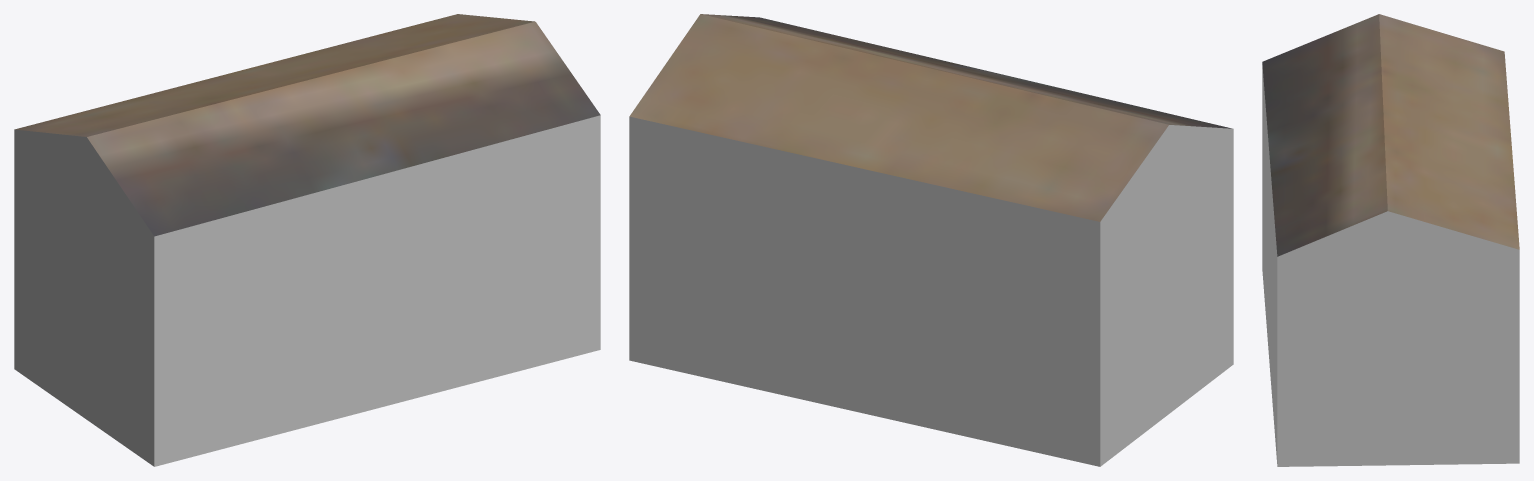
Rendered from DEBW_0010007Tx7O.gltf.
3 renders of one model, left to right at view 1: azimuth 30°, elevation 25°; view 2: azimuth 150°, elevation 25°; view 3: azimuth 270°, elevation 25°, orthographic. The views are drawn at different scales.
Parts seen in each view (by area): view 1: Z_UP; view 2: Z_UP; view 3: Z_UP.
Boxes of the visible parts, left/top/right/bottom form: Z_UP: left=14, top=14, right=600, bottom=466; Z_UP: left=629, top=14, right=1233, bottom=466; Z_UP: left=1262, top=14, right=1519, bottom=466.
Size of the model in its own units: 6.59 by 3.89 by 3.57.
2 materials, 1 textured.
